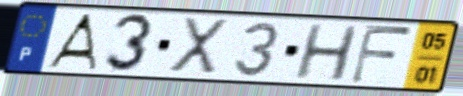3: (100, 12, 159, 75), (228, 20, 284, 79)
A: (42, 12, 100, 72)
F: (347, 22, 416, 86)
H: (291, 23, 361, 83)
X: (165, 16, 231, 78)
